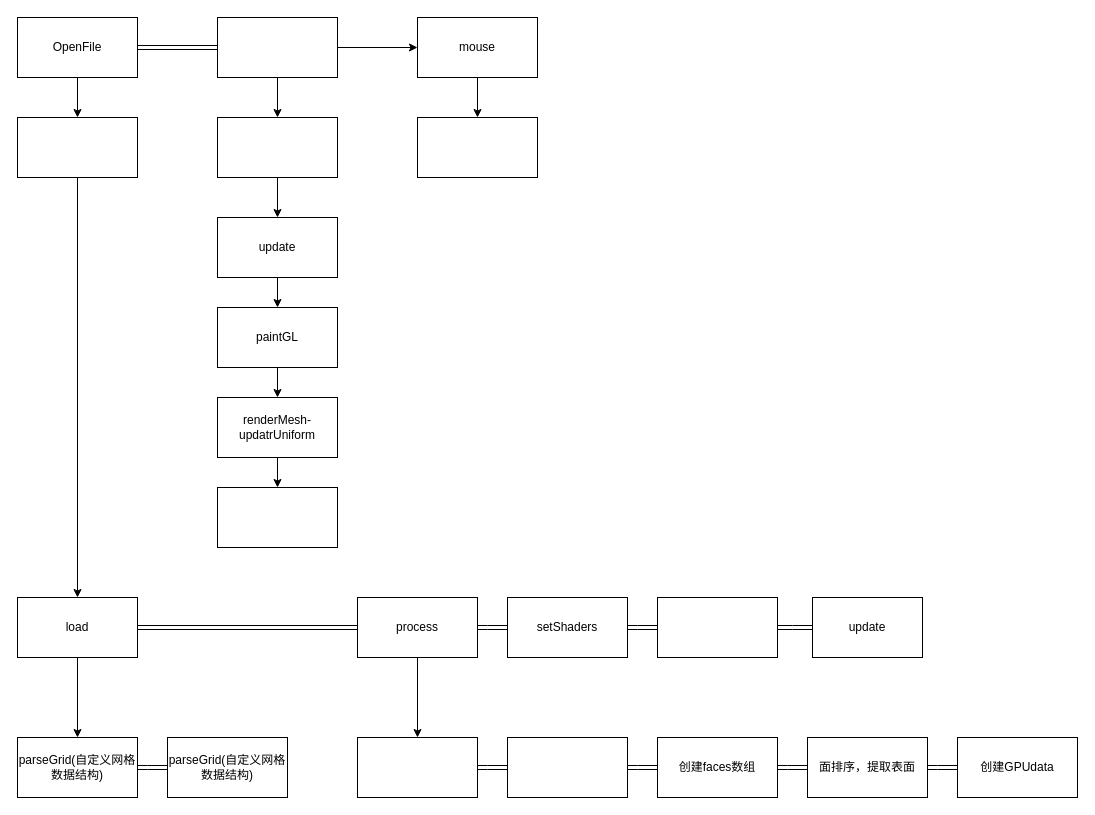
Image size: 1095x815. Some labels were removed from this diagram. Each missing label, with the box of its shape:
draw: (216, 486, 338, 548)
getFiledData: (356, 736, 478, 798)
glBufferData: (656, 596, 778, 658)
LoadMesh: (16, 116, 138, 178)
rotate\pan: (416, 116, 538, 178)
setxxx(uniform): (216, 116, 338, 178)
xxxChanded: (216, 16, 338, 78)
创建points数组: (506, 736, 628, 798)
